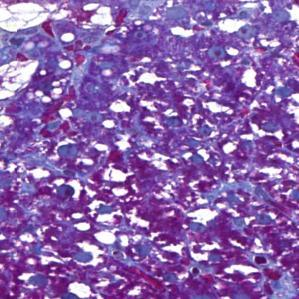ballooning: (4, 58, 41, 101), (4, 4, 52, 35)
